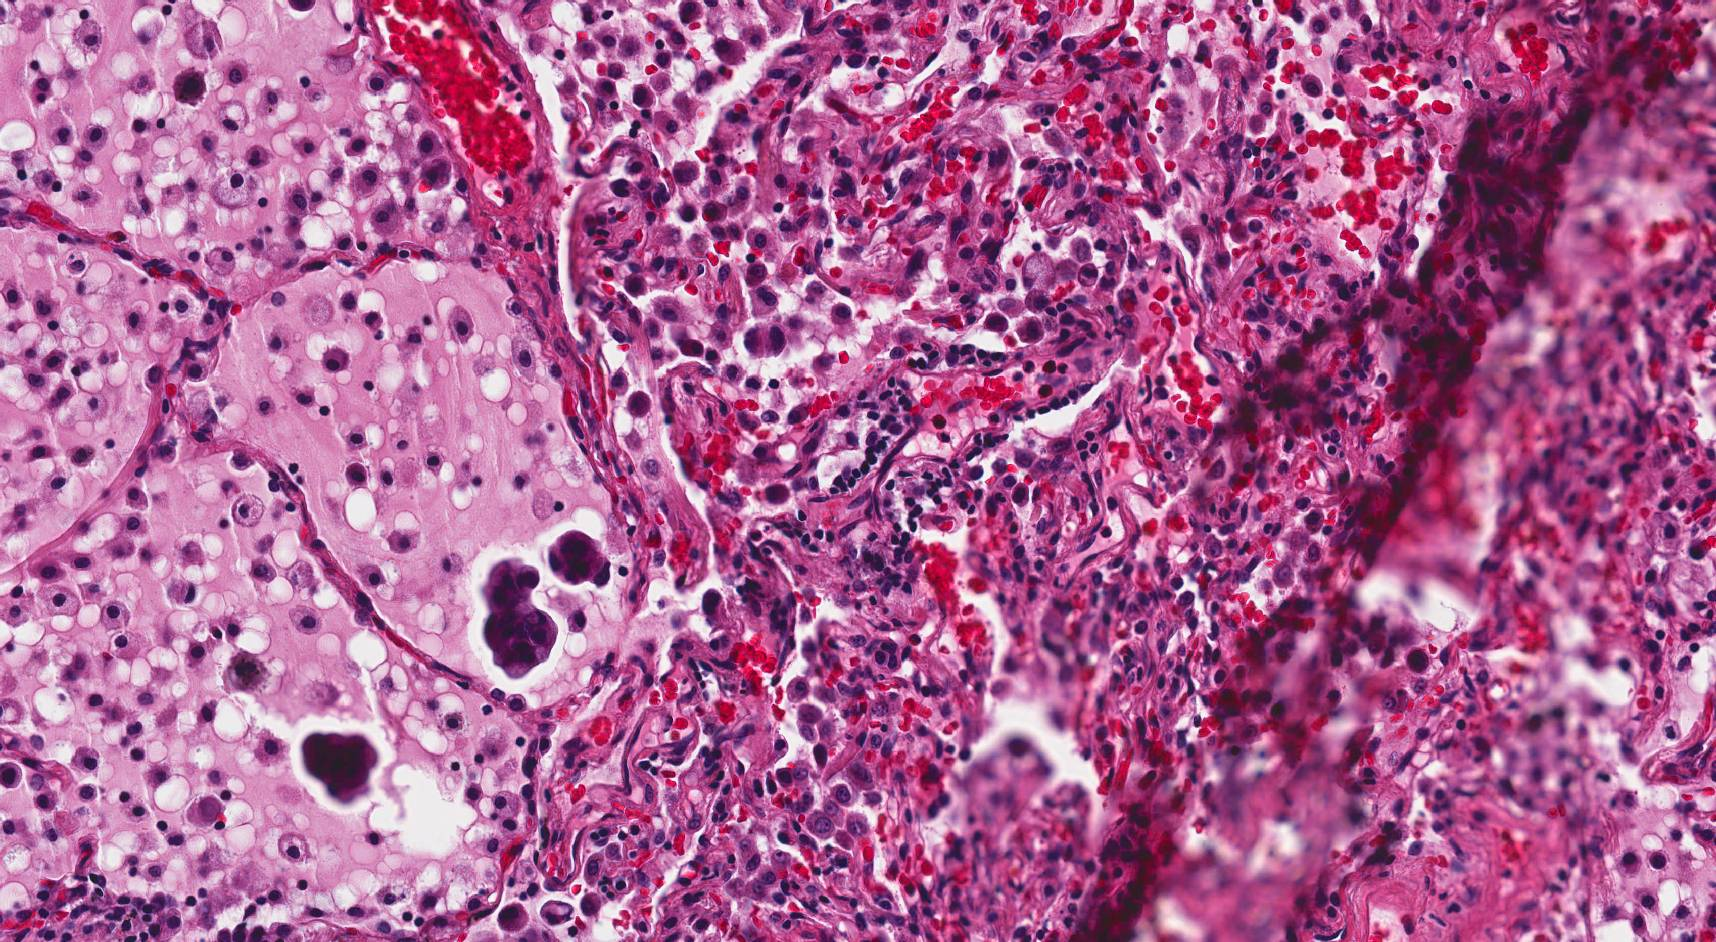stas: (482, 559, 560, 681), (300, 729, 380, 809), (546, 529, 612, 587)
